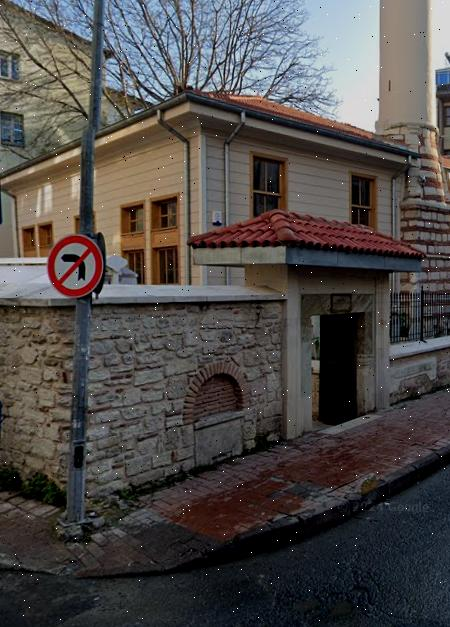leftturnsareforbidden: (48, 236, 101, 292)
